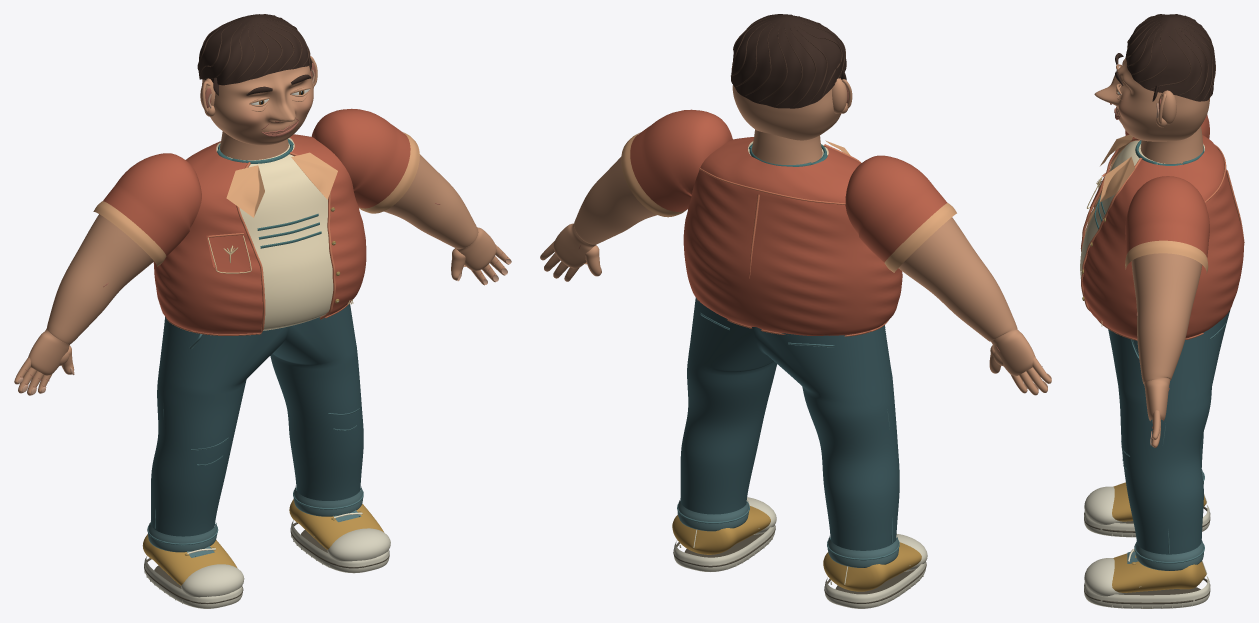
The model's file is entry-02-02.glb.
3 views of the same model, side by side, from view 1: azimuth 30°, elevation 25°; view 2: azimuth 150°, elevation 25°; view 3: azimuth 270°, elevation 25° (orthographic). The views are drawn at different scales.
Parts seen in each view (by area): view 1: Continuous trousers waist seat crotch legs, Overshirt back and open panels, Oat tee full torso, Right continuous shoulder arm wrist and hand, Right short overshirt sleeve, Left short overshirt sleeve, Swept hair crown and nape, Continuous sculpted head and nose, Left continuous shoulder arm wrist and hand, Right sneaker canvas upper, Left sneaker canvas upper, Left rubber toe (+11 smaller); view 2: Continuous trousers waist seat crotch legs, Overshirt back and open panels, Swept hair crown and nape, Right continuous shoulder arm wrist and hand, Right short overshirt sleeve, Left short overshirt sleeve, Left continuous shoulder arm wrist and hand, Continuous sculpted head and nose, Right sneaker canvas upper, Left sneaker canvas upper, Neck and trapezius, Right complete outsole (+5 smaller); view 3: Continuous trousers waist seat crotch legs, Overshirt back and open panels, Left continuous shoulder arm wrist and hand, Swept hair crown and nape, Left short overshirt sleeve, Continuous sculpted head and nose, Left sneaker canvas upper, Left complete outsole, Neck and trapezius, Left turned sleeve cuff, Left rolled trouser cuff, Oat tee full torso (+12 smaller).
Part boxes in pixels (x1,y1,x2,y2): Continuous trousers waist seat crotch legs: (151,304,363,536); Overshirt back and open panels: (153,134,366,334); Oat tee full torso: (216,138,333,330); Right continuous shoulder arm wrist and hand: (28,214,153,375); Right short overshirt sleeve: (103,153,201,256); Left short overshirt sleeve: (311,108,410,208); Swept hair crown and nape: (198,14,311,85); Continuous sculpted head and nose: (202,66,313,145); Left continuous shoulder arm wrist and hand: (384,154,496,270); Right sneaker canvas upper: (142,534,237,585); Left sneaker canvas upper: (289,499,383,549); Left rubber toe: (327,528,390,561); Continuous trousers waist seat crotch legs: (680,297,899,550); Overshirt back and open panels: (683,137,902,335); Swept hair crown and nape: (731,14,846,108); Right continuous shoulder arm wrist and hand: (898,217,1035,376); Right short overshirt sleeve: (845,155,947,262); Left short overshirt sleeve: (630,109,732,211); Left continuous shoulder arm wrist and hand: (553,157,656,268); Continuous sculpted head and nose: (732,78,840,140); Right sneaker canvas upper: (823,542,921,591); Left sneaker canvas upper: (672,506,770,554); Neck and trapezius: (751,129,822,164); Right complete outsole: (824,562,926,608); Continuous trousers waist seat crotch legs: (1108,310,1230,554); Overshirt back and open panels: (1082,135,1243,338); Left continuous shoulder arm wrist and hand: (1131,253,1202,421); Swept hair crown and nape: (1125,14,1215,101); Left short overshirt sleeve: (1125,176,1209,267); Continuous sculpted head and nose: (1094,58,1210,141); Left sneaker canvas upper: (1112,553,1206,592); Left complete outsole: (1084,576,1210,608); Neck and trapezius: (1140,126,1203,163); Left turned sleeve cuff: (1125,240,1208,273); Left rolled trouser cuff: (1135,540,1203,570); Oat tee full torso: (1080,140,1204,278).
Size of the model in its own units: 1.94 by 2.02 by 0.5582.
